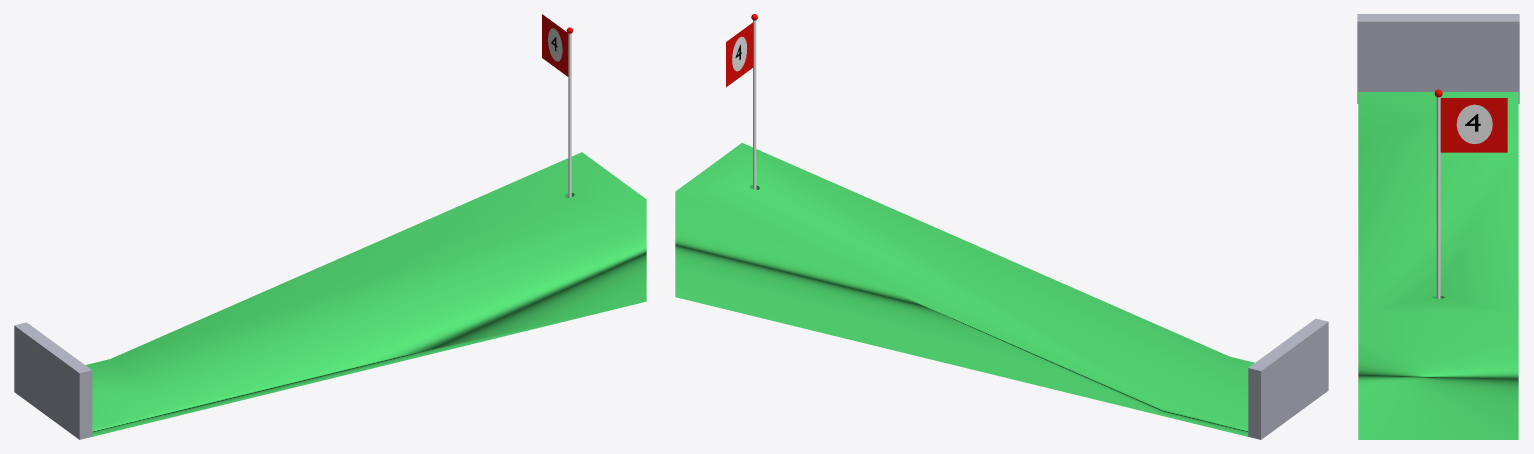
Rendered from bane 4 uden lys.fbx.
3 renders of one model, left to right at view 1: azimuth 30°, elevation 25°; view 2: azimuth 150°, elevation 25°; view 3: azimuth 270°, elevation 25°, orthographic. The views are drawn at different scales.
Visible parts, largest first — view 1: bane, Cube, Cube.001, Cylinder.003; view 2: bane, Cube, Cube.001, Cylinder.003; view 3: bane, Cube, Cube.001, Circle.003, Cylinder.003.
Part boxes in pixels (<box>): bane: <box>85,152,646,436</box>; Cube: <box>14,322,92,439</box>; Cube.001: <box>542,14,568,76</box>; Cylinder.003: <box>568,33,571,197</box>; bane: <box>675,143,1254,436</box>; Cube: <box>1248,318,1328,439</box>; Cube.001: <box>726,22,753,87</box>; Cylinder.003: <box>753,20,756,189</box>; bane: <box>1358,92,1518,439</box>; Cube: <box>1357,14,1519,103</box>; Cube.001: <box>1440,98,1507,152</box>; Circle.003: <box>1456,104,1492,144</box>; Cylinder.003: <box>1436,97,1440,298</box>.
Size of the model in its own units: 405 by 178 by 80.86.
